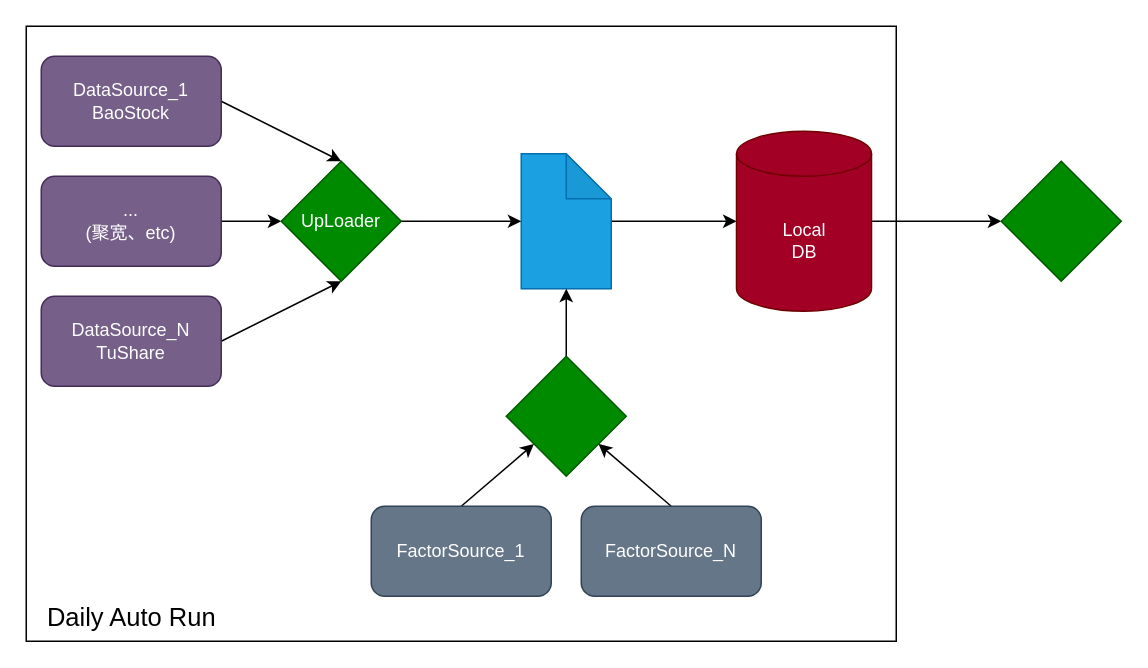
The diagram is 1148 pixels wide and 668 high, and some of its shapes have lost their labels. The shapes that lost their labels are listed below. From the top down, each one's centre as x and y in pixels, then its label:
the point at 565,220: DB Schema
the point at 1060,220: DownLoader
the point at 565,415: Prebuilder
